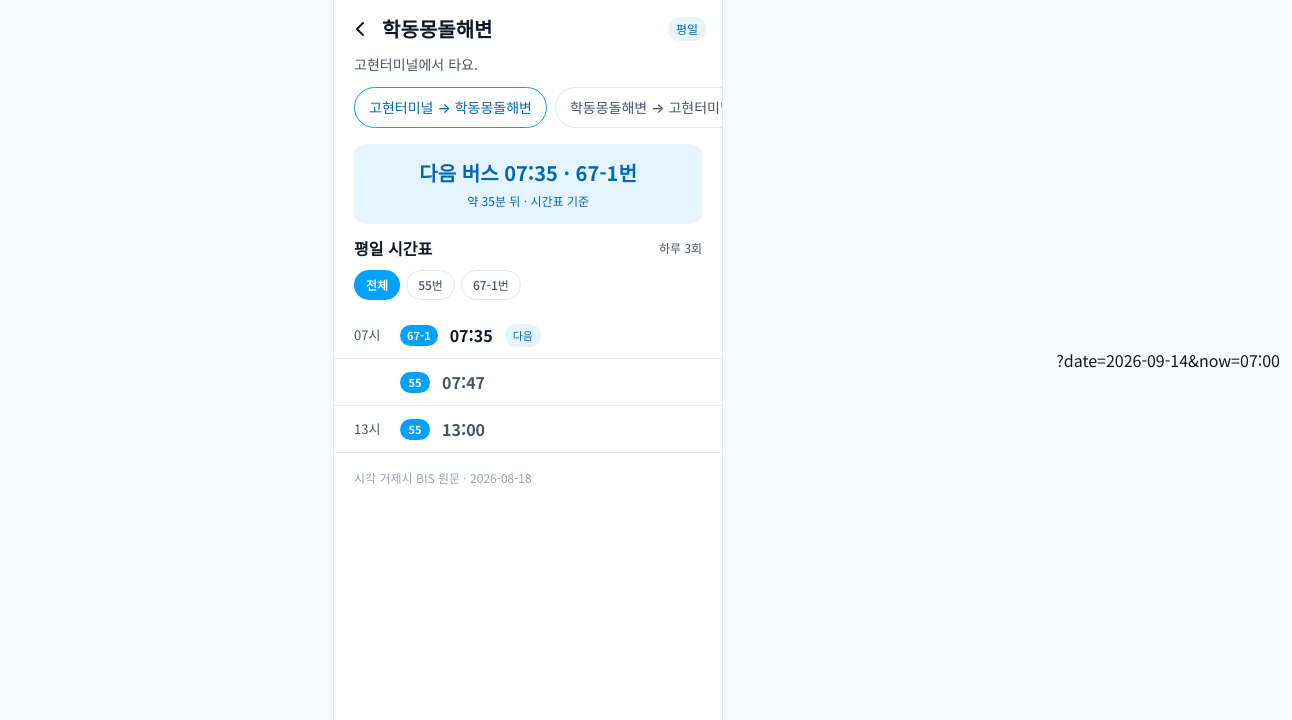
Test: SpotTimetablePage — 버스 시간표 09-14 개정(530:213 · 541:213 · 541:327) › 노선 칩을 고르면 그 노선 편만 · 「55번 2회」 · 소요시간(폭이 있으면 범위) · 다음 버스도 그 노선
Click the button "55번" at coordinates (431, 285), box [406,270,455,300]
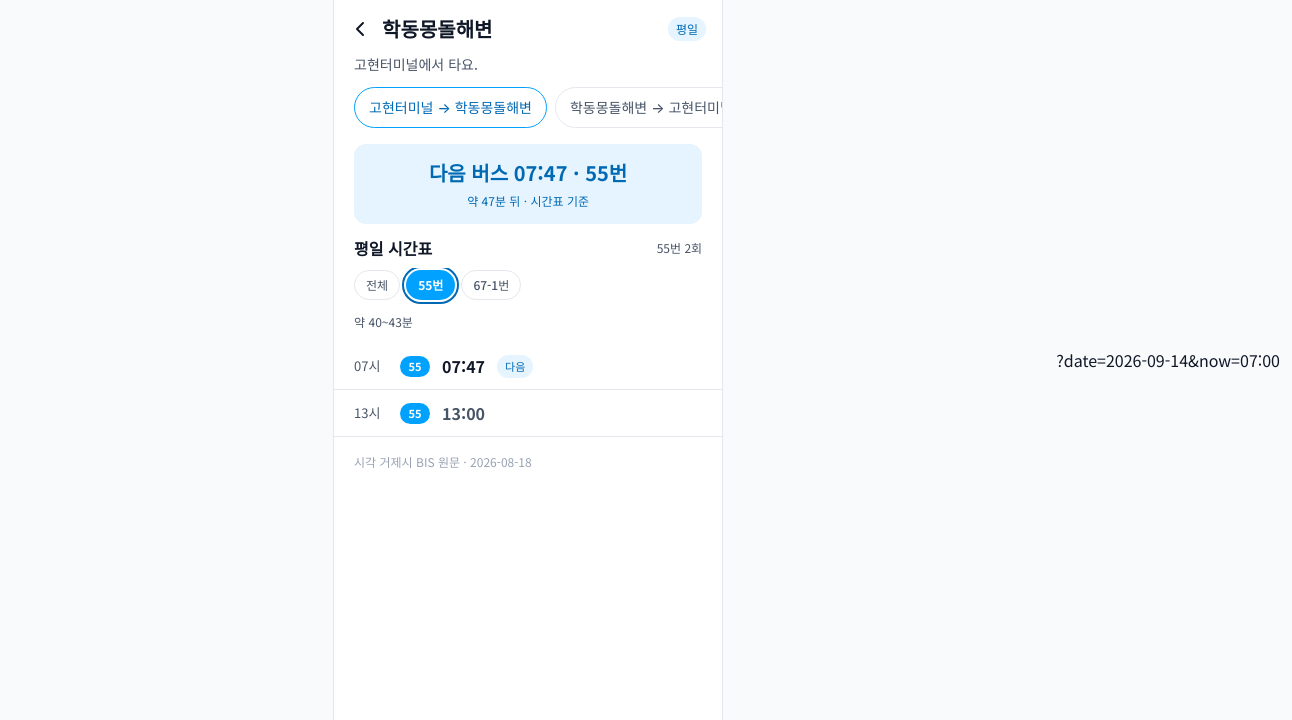
Result: the text "55번 2회" is shown at [657,239,702,256]
Result: the text "약 40~43분" is shown at [354,313,413,330]
Result: the text "07:35" is gone
Click the button "67-1번" at coordinates (491, 285), box [461,270,521,300]
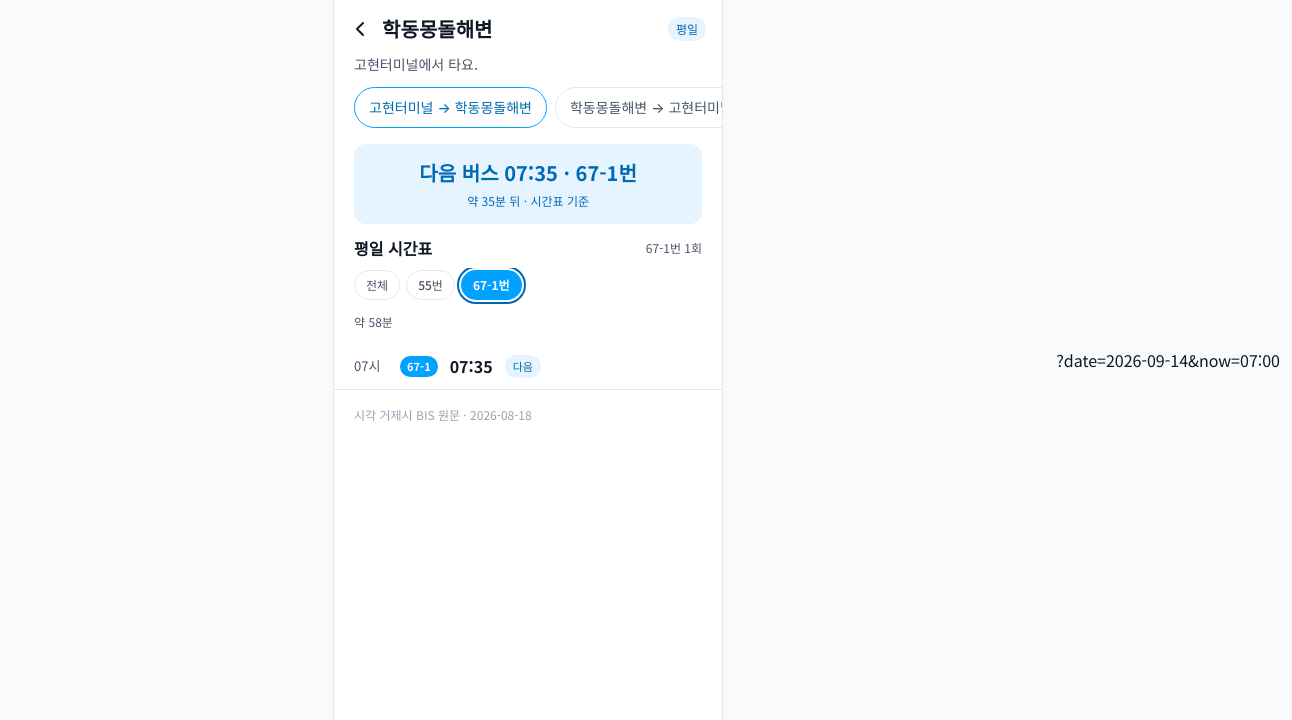
Result: the text "약 58분" is shown at [354,313,393,330]
Result: the text "다음 버스 07:35 · 67-1번" is shown at [419,158,637,188]
